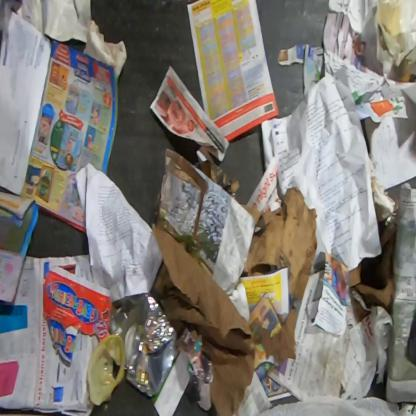metal: (122, 296, 180, 398)
soft_plastic: (87, 333, 126, 407)
